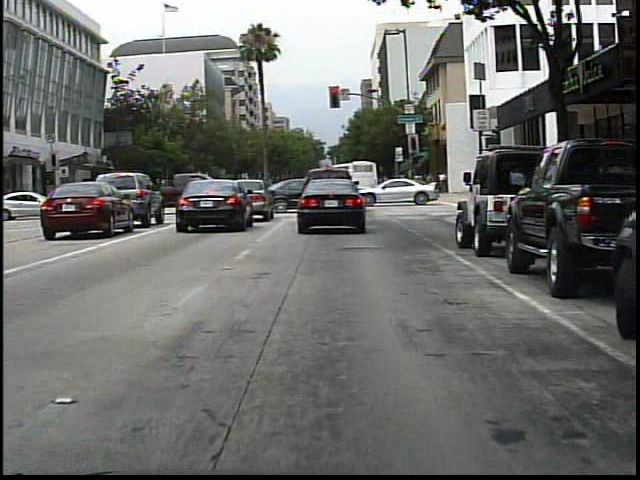person: (436, 168, 452, 200)
